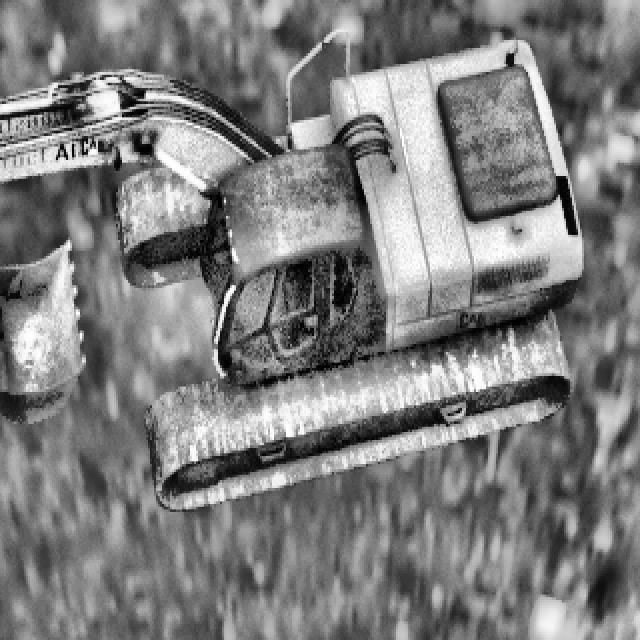excavator: (0, 38, 580, 510)
